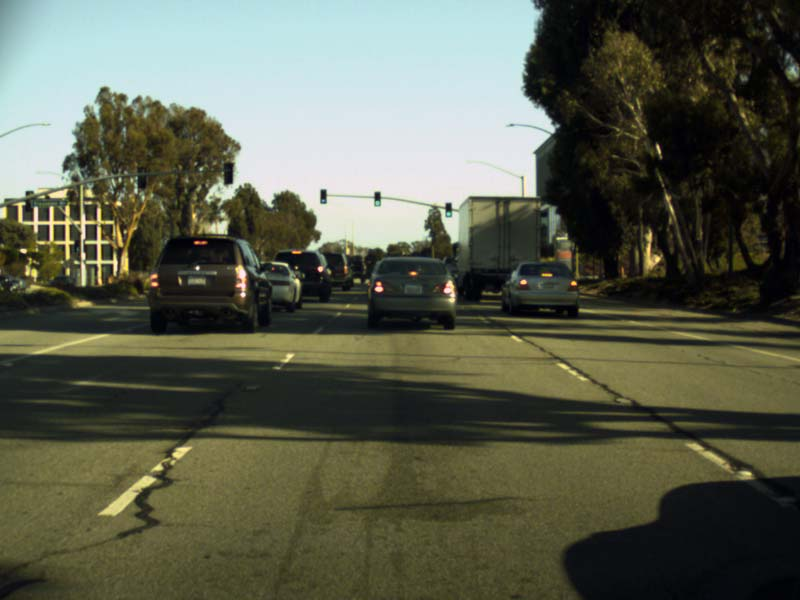Green: (373, 191, 380, 206), (445, 202, 451, 217), (320, 189, 326, 203)
